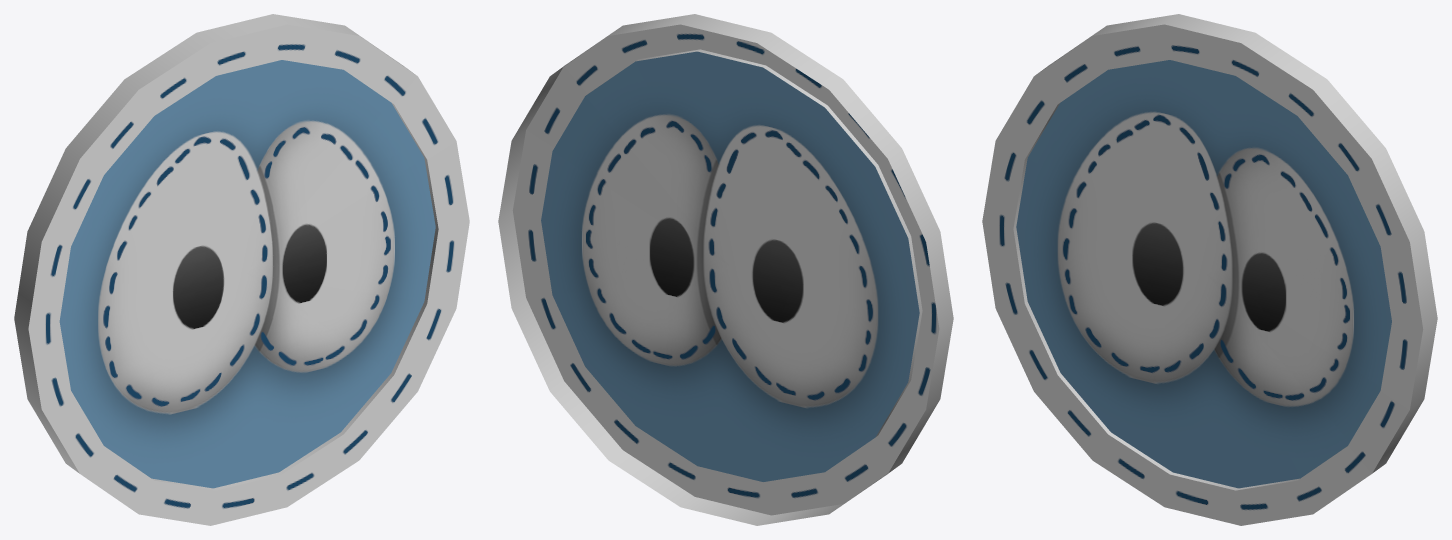
File: Eyeicon.FBX
The picture shows the model from 3 angles, left to right: view 1: azimuth 30°, elevation 25°; view 2: azimuth 150°, elevation 25°; view 3: azimuth 330°, elevation 25°; orthographic projection.
Parts seen in each view (by area): view 1: Eyeicon; view 2: Eyeicon; view 3: Eyeicon.
Boxes of the visible parts, x1,y1,x2,y2 form: Eyeicon: [14, 14, 469, 525]; Eyeicon: [498, 14, 953, 525]; Eyeicon: [982, 14, 1437, 525].
Size of the model in its own units: 0.8397 by 0.8781 by 0.0478.
